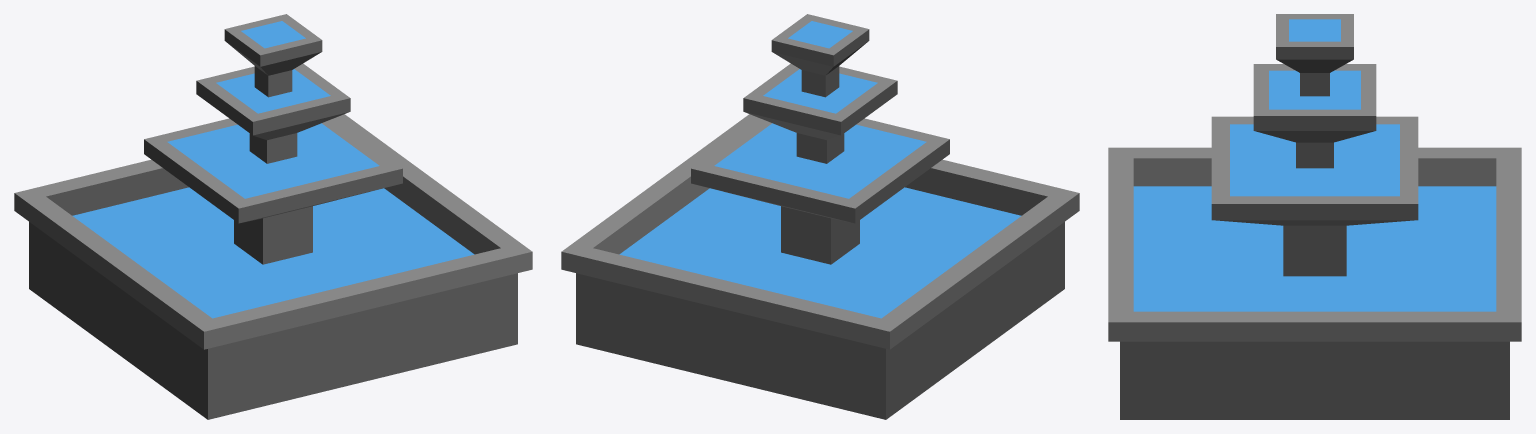
File: SM_Fountain_Full_01.fbx
3 renders of one model, left to right at view 1: azimuth 30°, elevation 25°; view 2: azimuth 150°, elevation 25°; view 3: azimuth 270°, elevation 25°, orthographic. The views are drawn at different scales.
Parts seen in each view (by area): view 1: SM_Fountain_Full_01; view 2: SM_Fountain_Full_01; view 3: SM_Fountain_Full_01.
Boxes of the visible parts, x1,y1,x2,y2 form: SM_Fountain_Full_01: (14, 14, 532, 419); SM_Fountain_Full_01: (561, 14, 1079, 419); SM_Fountain_Full_01: (1108, 14, 1521, 419).
Size of the model in its own units: 3.85 by 3.16 by 3.85.
